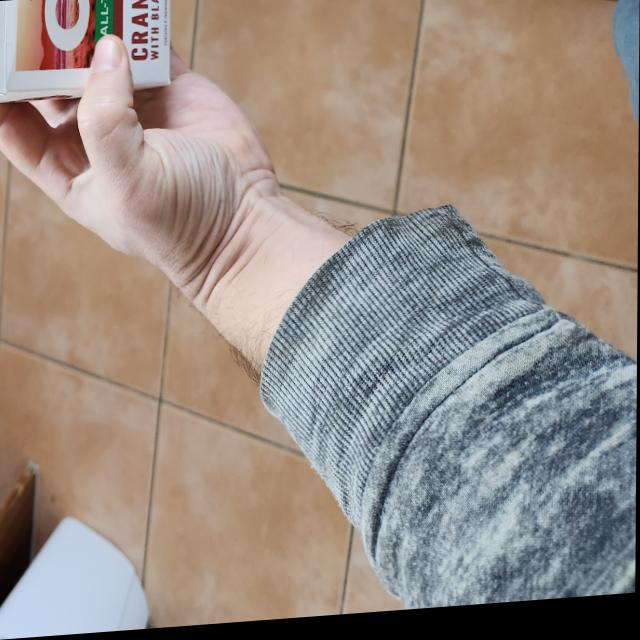muesli bars: (0, 0, 172, 103)
